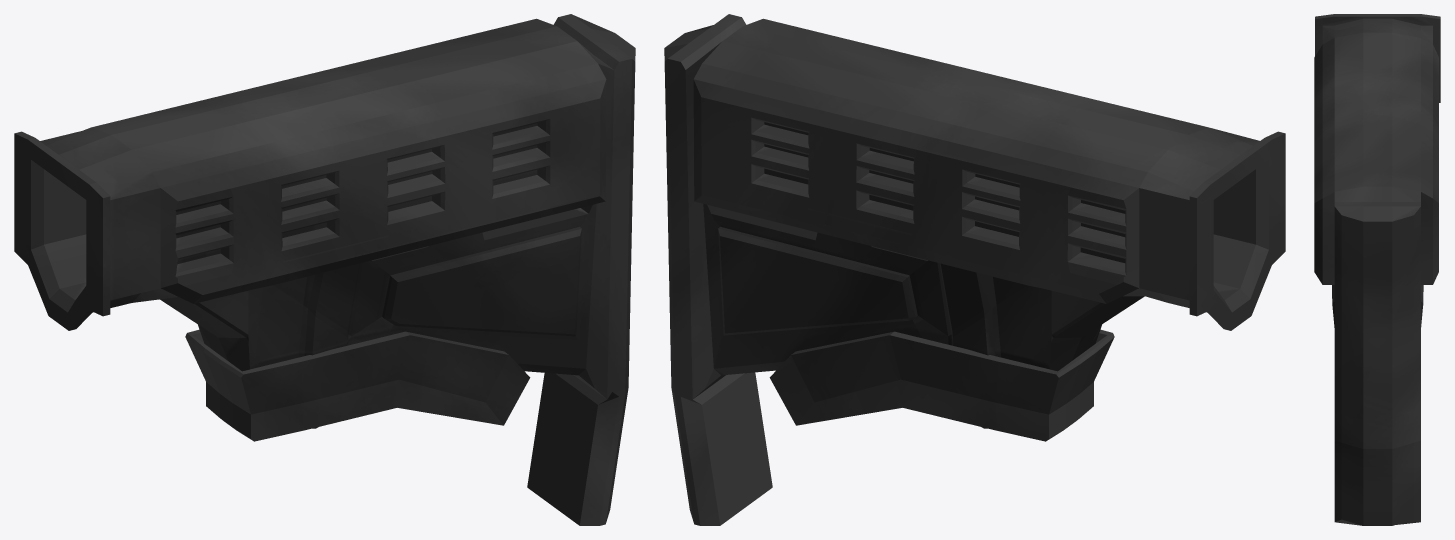
Rendered from ButtOfTheM4SS.fbx.
3 views of the same model, side by side, from view 1: azimuth 30°, elevation 25°; view 2: azimuth 150°, elevation 25°; view 3: azimuth 270°, elevation 25° (orthographic). The views are drawn at different scales.
Parts seen in each view (by area): view 1: ButtOfTheM4SS; view 2: ButtOfTheM4SS; view 3: ButtOfTheM4SS.
Part boxes in pixels (x1,y1,x2,y2): ButtOfTheM4SS: (14, 14, 635, 525); ButtOfTheM4SS: (664, 14, 1285, 525); ButtOfTheM4SS: (1314, 14, 1440, 525).
Bounding box in the file's own units: 45.63 × 36.52 × 12.42.
Materials: 1 (1 with a texture image).
